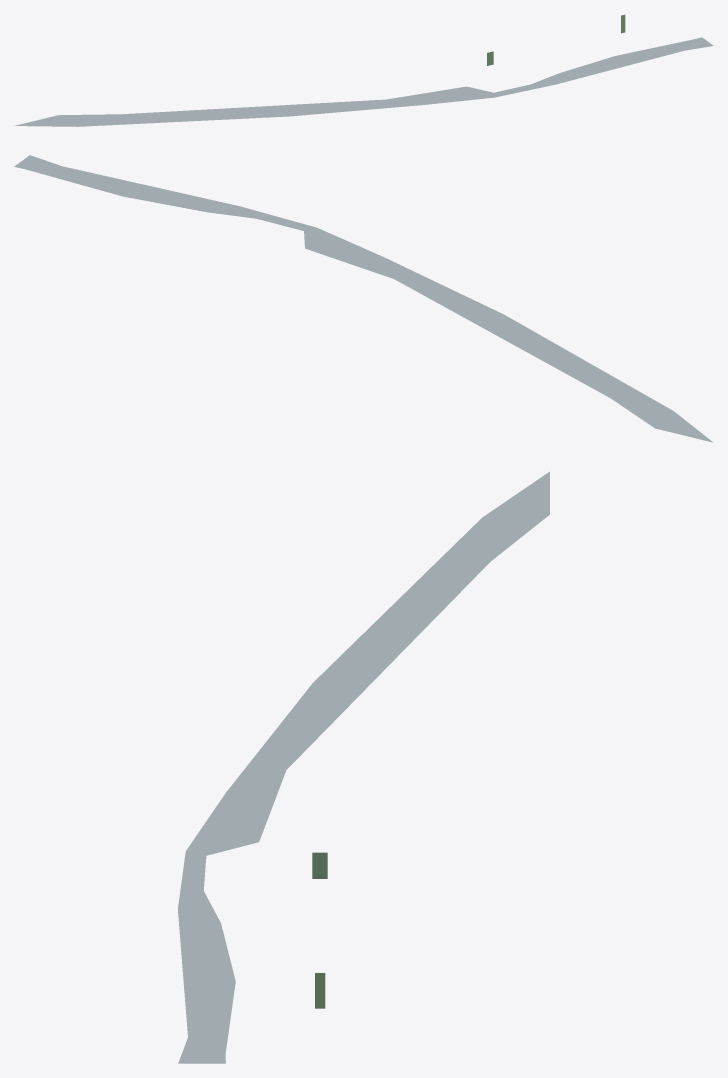
3 views of the same model, one above another, from view 1: azimuth 30°, elevation 25°; view 2: azimuth 150°, elevation 25°; view 3: azimuth 270°, elevation 25° (orthographic). The views are drawn at different scales.
Bounding box in the file's own units: 274 × 7.95 × 72.82.
